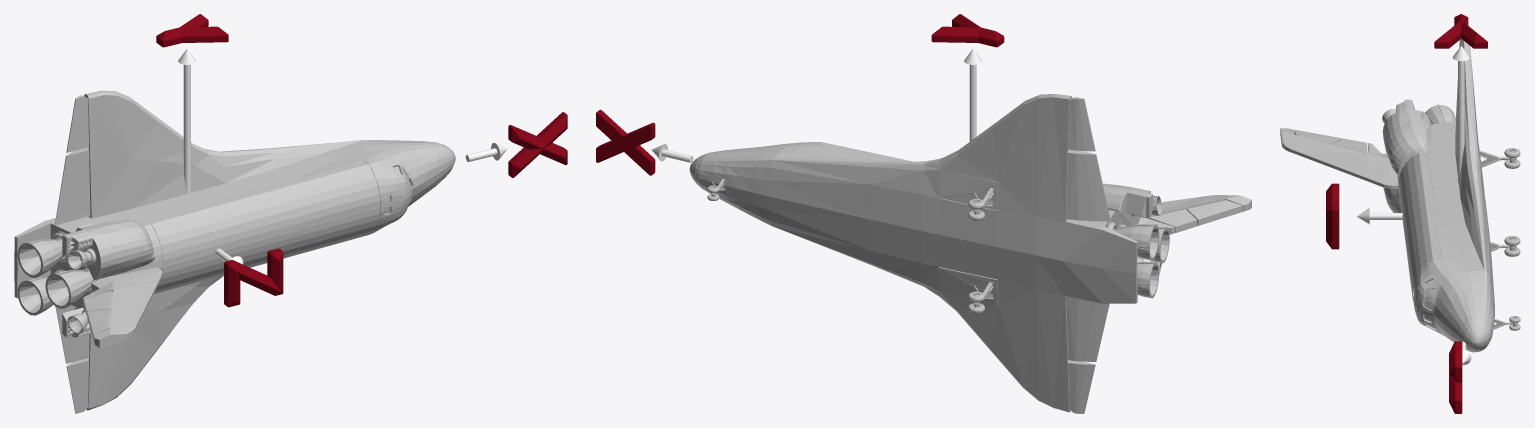
File: shuttleXYZ.obj
3 renders of one model, left to right at view 1: azimuth 30°, elevation 25°; view 2: azimuth 150°, elevation 25°; view 3: azimuth 270°, elevation 25°, orthographic. The views are drawn at different scales.
Parts seen in each view (by area): view 1: Object.1, Object.8, Object.7, Object.9, Object.5; view 2: Object.1, Object.8, Object.9, Object.5; view 3: Object.1, Object.9, Object.8, Object.7, Object.5, Object.2.
Boxes of the visible parts, x1,y1,x2,y2 form: Object.1: (14,90,455,413); Object.8: (508,112,567,177); Object.7: (224,248,283,307); Object.9: (156,14,228,47); Object.5: (183,64,190,193); Object.1: (689,94,1251,413); Object.8: (596,109,655,175); Object.9: (931,14,1004,47); Object.5: (969,64,976,141); Object.1: (1280,39,1520,352); Object.9: (1434,14,1487,48); Object.8: (1449,341,1462,413); Object.7: (1326,183,1339,249); Object.5: (1458,61,1464,182); Object.2: (1369,213,1402,219).
Bounding box in the file's own units: 320 × 197 × 125.
